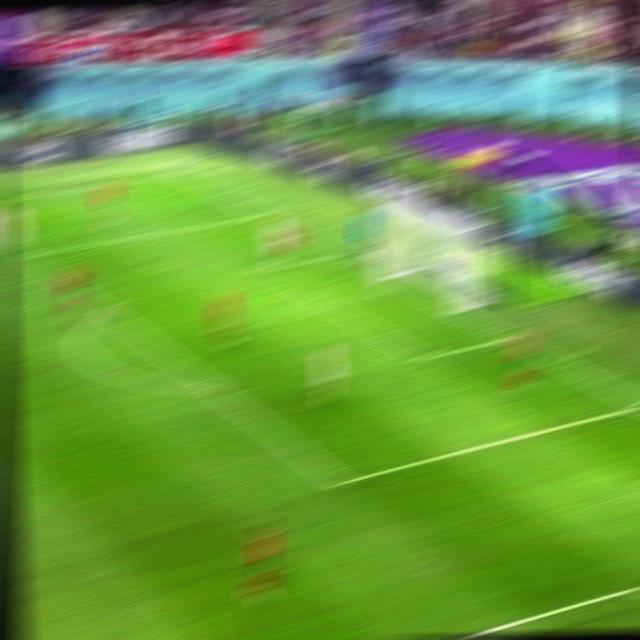bigarea_bottom_inner: (324, 468, 355, 494)
bigarea_bottom_outter: (626, 394, 640, 414)
bigarea_top_inner: (10, 245, 39, 265)
bigarea_top_outter: (250, 206, 275, 222)
bottom_arc_area_intersection: (200, 378, 228, 398)
corner: (164, 167, 190, 179)
smallarea_bottom_inner: (406, 342, 439, 370)
smallarea_bottom_outter: (493, 328, 522, 348)
smallarea_top_inner: (251, 258, 281, 278)
smallarea_top_outter: (327, 245, 354, 262)
top_arc_area_intersection: (89, 298, 119, 318)
